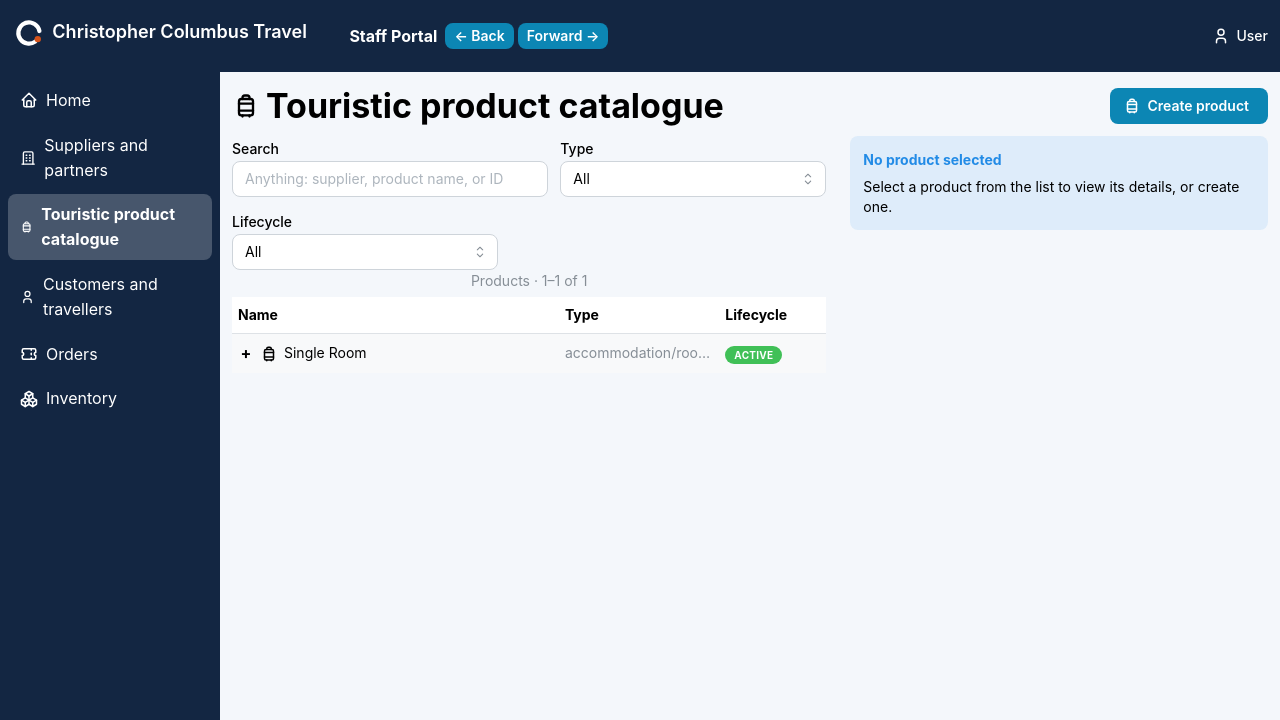
Test: ProductsRoute (VIEW-S-003 tree view, issue #31 follow-up) › expands a matched row's own children on demand
The image size is (1280, 720).
Expected: the text "Single Room" is shown, [284,343,367,364]
Expected: the text "Single Room · 0101" is not shown
Click the button named "expand": point(246, 354) [238,341,254,366]
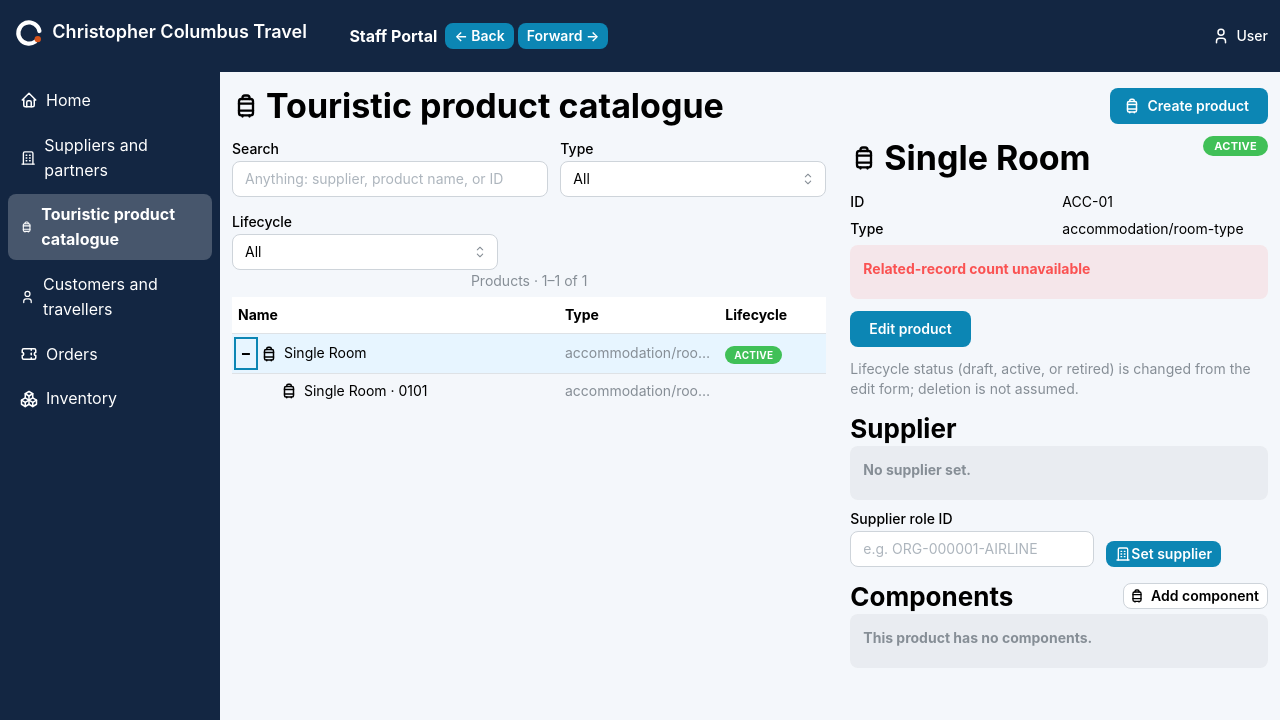
Result: the text "Single Room · 0101" is shown at [304,381,428,401]
